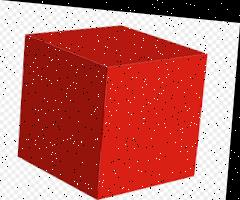cube: (16, 16, 209, 200)
